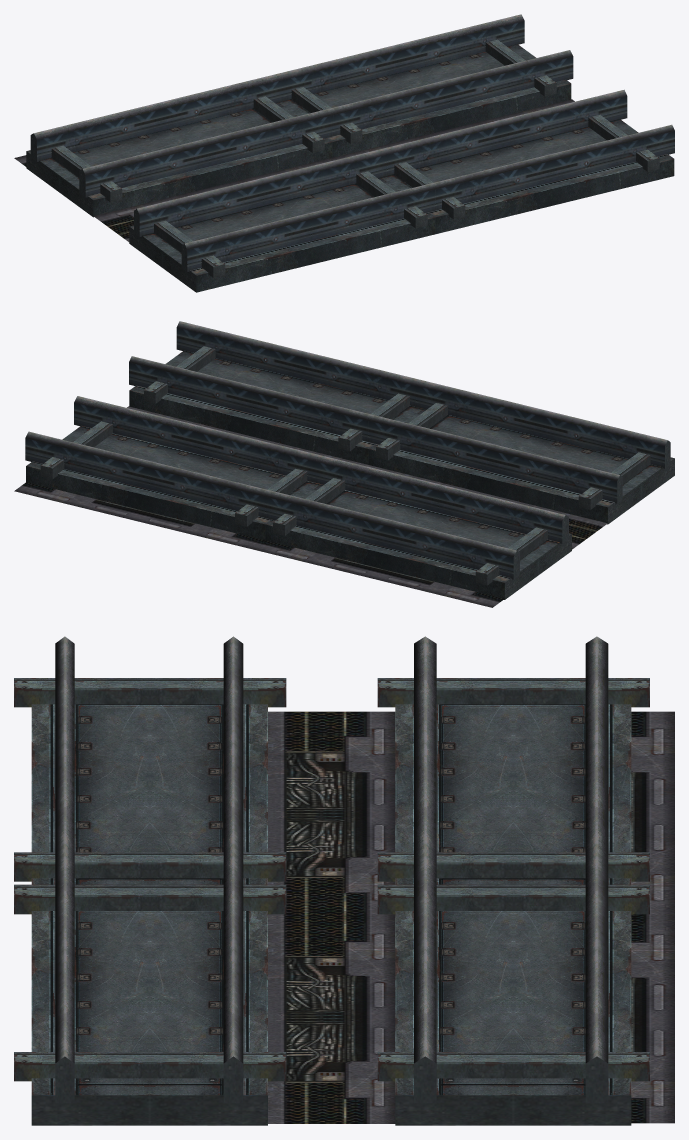
The model's file is fb_suidao_tiegui01.FBX.
3 renders of one model, top to bottom at view 1: azimuth 30°, elevation 25°; view 2: azimuth 150°, elevation 25°; view 3: azimuth 270°, elevation 25°, orthographic. The views are drawn at different scales.
Parts seen in each view (by area): view 1: fb_suidao_tiegui01; view 2: fb_suidao_tiegui01; view 3: fb_suidao_tiegui01.
Boxes of the visible parts, x1,y1,x2,y2 form: fb_suidao_tiegui01: (14, 14, 674, 292); fb_suidao_tiegui01: (14, 321, 674, 607); fb_suidao_tiegui01: (14, 636, 674, 1125).
Size of the model in its own units: 2660 by 223 by 1769.
